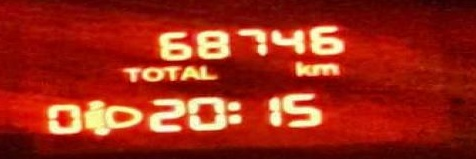0: (185, 95, 223, 131), (44, 102, 80, 134)
1: (265, 94, 283, 127)
2: (146, 96, 185, 133)
4: (270, 27, 306, 53)
5: (280, 93, 323, 128)
6: (155, 30, 192, 60), (307, 24, 343, 54)
7: (236, 27, 269, 56)
8: (194, 27, 231, 59)
X: (225, 98, 245, 127), (310, 61, 339, 77), (293, 60, 316, 77), (140, 65, 163, 82), (179, 64, 198, 81), (121, 65, 138, 82), (162, 65, 179, 82), (198, 64, 215, 80)
